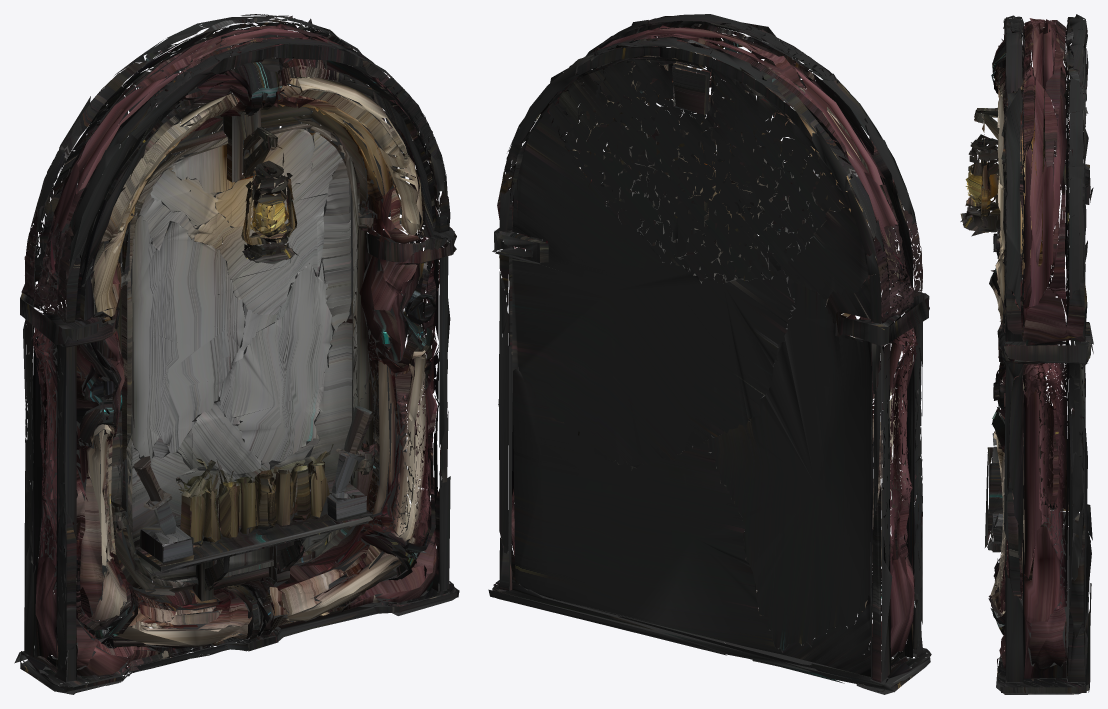
File: quest_briggs_memorial_wall.glb
3 renders of one model, left to right at view 1: azimuth 30°, elevation 25°; view 2: azimuth 150°, elevation 25°; view 3: azimuth 270°, elevation 25°, orthographic. The views are drawn at different scales.
Visible parts, largest first — view 1: node_0; view 2: node_0; view 3: node_0.
Boxes of the visible parts, x1,y1,x2,y2 form: node_0: (14, 14, 459, 694); node_0: (488, 14, 931, 694); node_0: (960, 14, 1093, 694).
Size of the model in its own units: 0.6937 by 0.9814 by 0.2088.
Materials: 1 (1 with a texture image).
